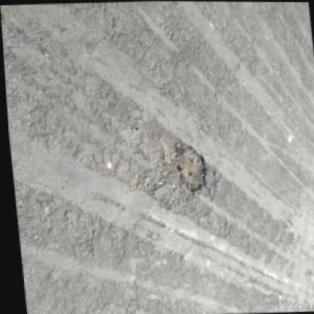Hueco: (172, 141, 208, 195)
